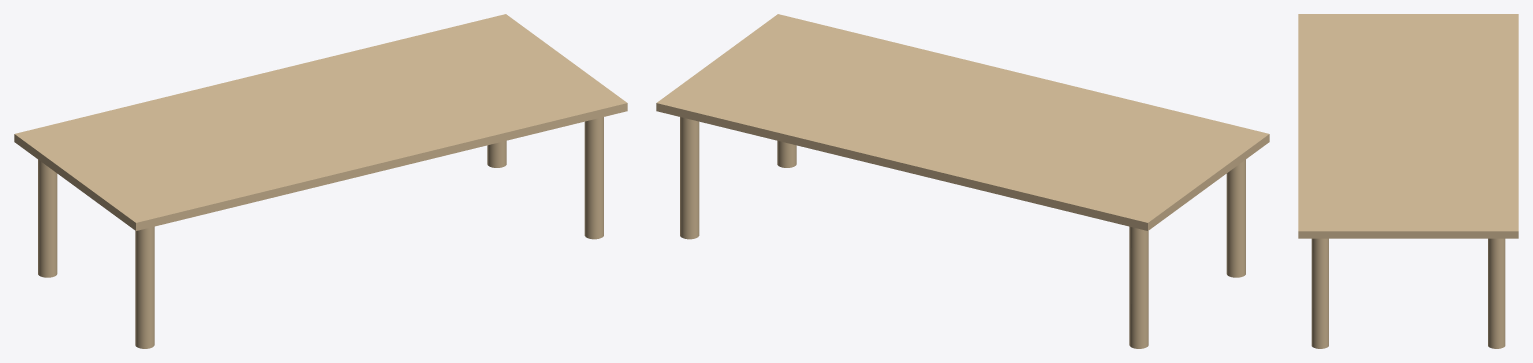
The model's file is ikea-listerby-30513904-g2-proxy.glb.
The picture shows the model from 3 angles, left to right: view 1: azimuth 30°, elevation 25°; view 2: azimuth 150°, elevation 25°; view 3: azimuth 270°, elevation 25°; orthographic projection. The views are drawn at different scales.
Visible parts, largest first — view 1: proxy_body, leg (×4); view 2: proxy_body, leg (×4); view 3: proxy_body, leg (×2).
Boxes of the visible parts, x1,y1,x2,y2 form: proxy_body: (14, 14, 627, 230); leg (×4): (38, 117, 603, 348); proxy_body: (656, 14, 1269, 230); leg (×4): (680, 117, 1245, 348); proxy_body: (1298, 14, 1518, 238); leg (×2): (1311, 238, 1505, 348).
Bounding box in the file's own units: 1.4 × 0.37 × 0.6.
